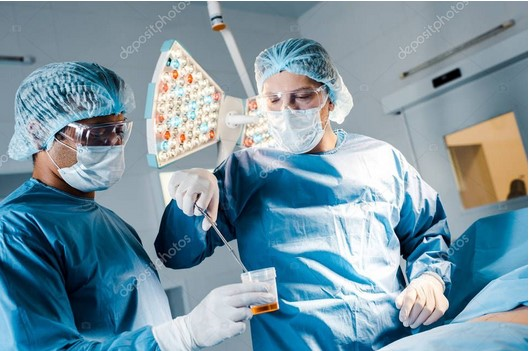face_with_mask: (19, 64, 135, 195), (252, 44, 336, 155)
